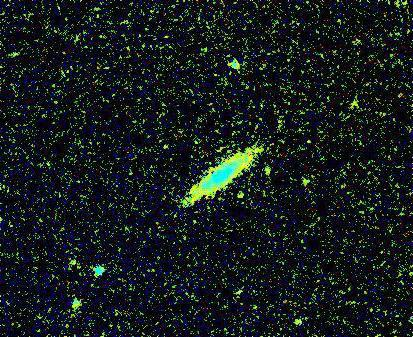star: (227, 177, 257, 207)
